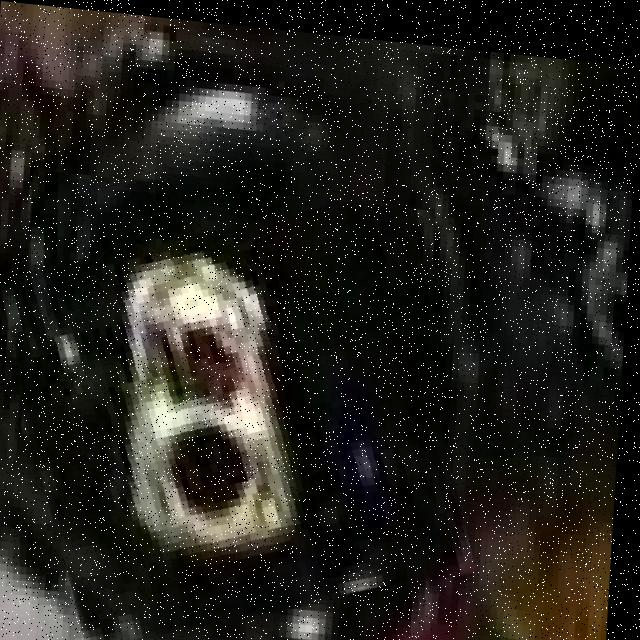litter: (24, 194, 437, 594)
